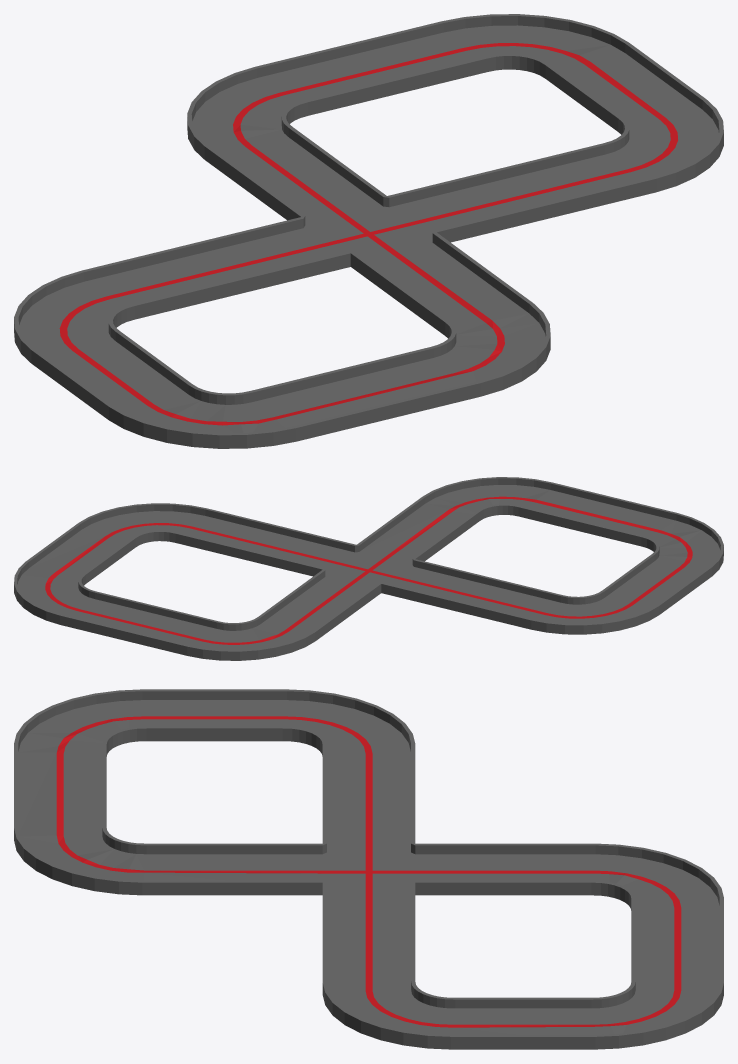
Rendered from track.dae.
3 views of the same model, one above another, from view 1: azimuth 30°, elevation 25°; view 2: azimuth 150°, elevation 25°; view 3: azimuth 270°, elevation 25° (orthographic). The views are drawn at different scales.
Parts seen in each view (by area): view 1: Track__collision_; view 2: Track__collision_; view 3: Track__collision_.
Boxes of the visible parts, box(x1,y1,x2,y2) form: Track__collision_: box(14, 14, 723, 448); Track__collision_: box(14, 477, 723, 660); Track__collision_: box(14, 689, 723, 1049).
Size of the model in its own units: 5.86 by 5.06 by 0.1.
